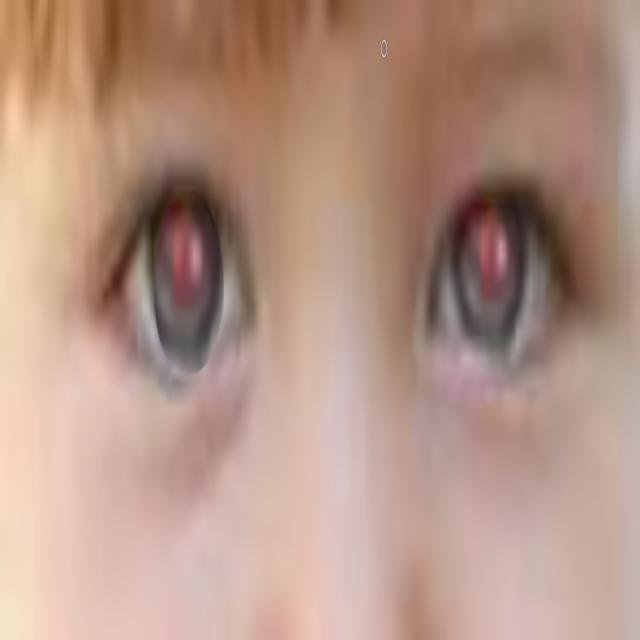reflexo-alterado: (422, 167, 552, 406), (124, 154, 239, 418)
